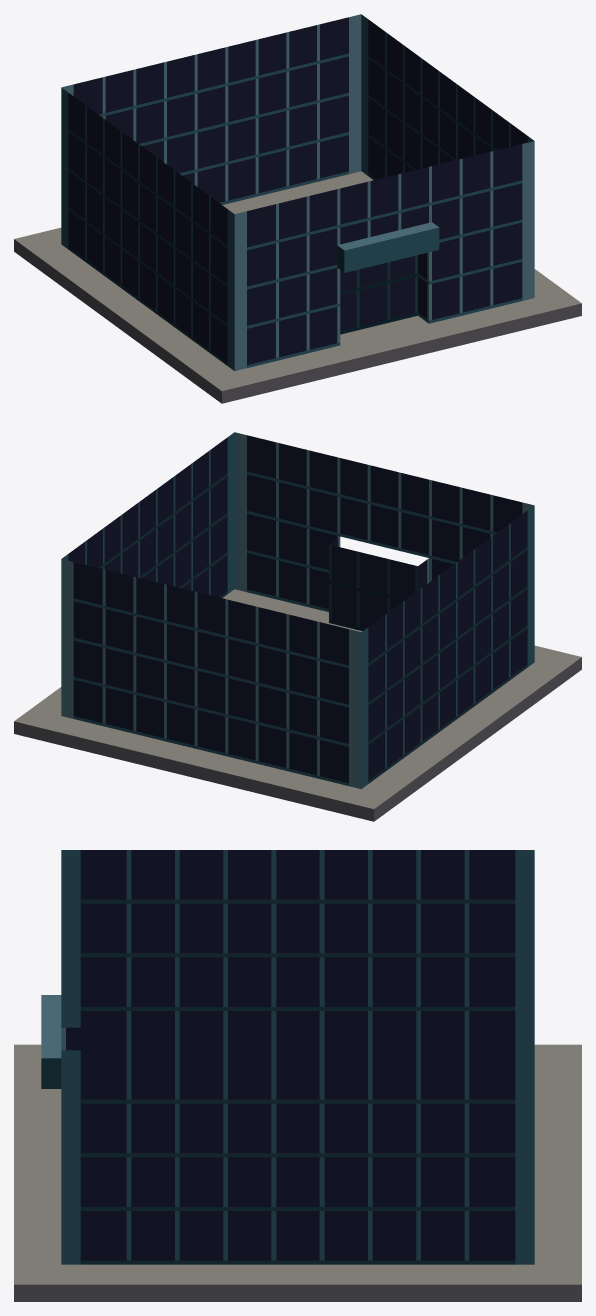
File: TB_CITY_Skysc_N_Bottom_Blue.FBX
3 views of the same model, one above another, from view 1: azimuth 30°, elevation 25°; view 2: azimuth 150°, elevation 25°; view 3: azimuth 270°, elevation 25° (orthographic). The views are drawn at different scales.
Parts seen in each view (by area): view 1: TB_CITY_Skysc_N_Bottom_Blue; view 2: TB_CITY_Skysc_N_Bottom_Blue; view 3: TB_CITY_Skysc_N_Bottom_Blue.
Boxes of the visible parts, x1=… form: TB_CITY_Skysc_N_Bottom_Blue: x1=14, y1=14, x2=581, y2=403; TB_CITY_Skysc_N_Bottom_Blue: x1=14, y1=432, x2=581, y2=821; TB_CITY_Skysc_N_Bottom_Blue: x1=14, y1=850, x2=581, y2=1301.
Size of the model in its own units: 24 by 10.8 by 24.
